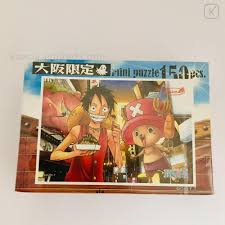chopper: (120, 98, 171, 149)
luffy: (68, 86, 118, 130)
